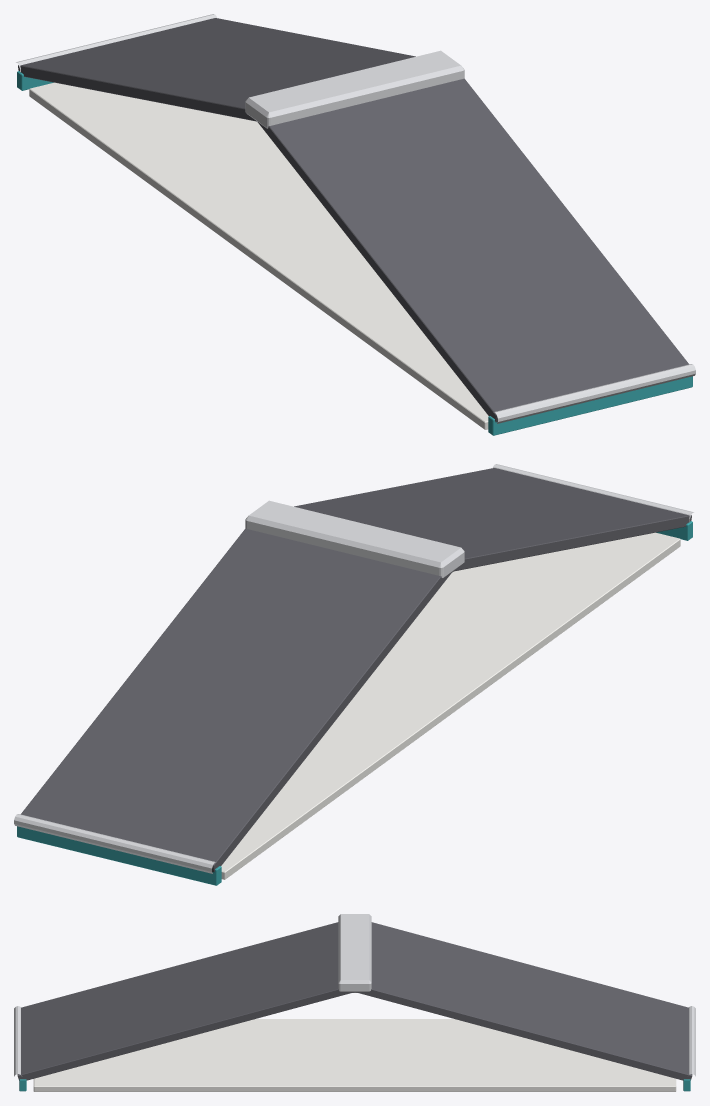
File: motorway-services-and-truck-park-pitched-roof-section-4cf23a61__35927.glb
The picture shows the model from 3 angles, top to bottom: view 1: azimuth 30°, elevation 25°; view 2: azimuth 150°, elevation 25°; view 3: azimuth 270°, elevation 25°; orthographic projection. The views are drawn at different scales.
Visible parts, largest first — view 1: pitched-roof-section; view 2: pitched-roof-section; view 3: pitched-roof-section.
Boxes of the visible parts, left/top/right/bottom form: pitched-roof-section: left=16, top=14, right=695, bottom=435; pitched-roof-section: left=14, top=464, right=693, bottom=885; pitched-roof-section: left=14, top=914, right=695, bottom=1091.
Size of the model in its own units: 2.04 by 1.54 by 8.54.
